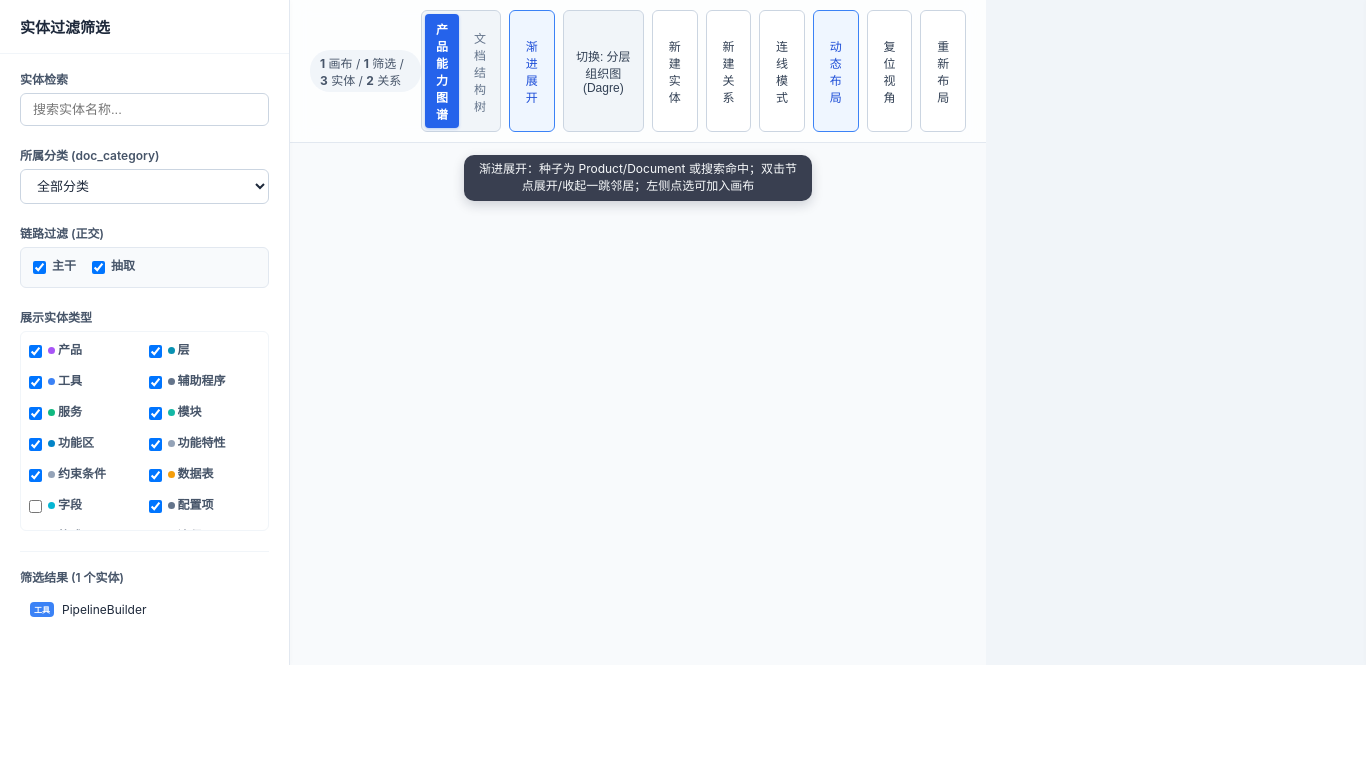
KnowledgeGraphView › toggles dynamic and static physics layout modes
# 切换到 Force 模式以测试物理引擎动静态状态
Click the button with test id "toggle-layout-mode" at (603,71), box [563,10,644,132]
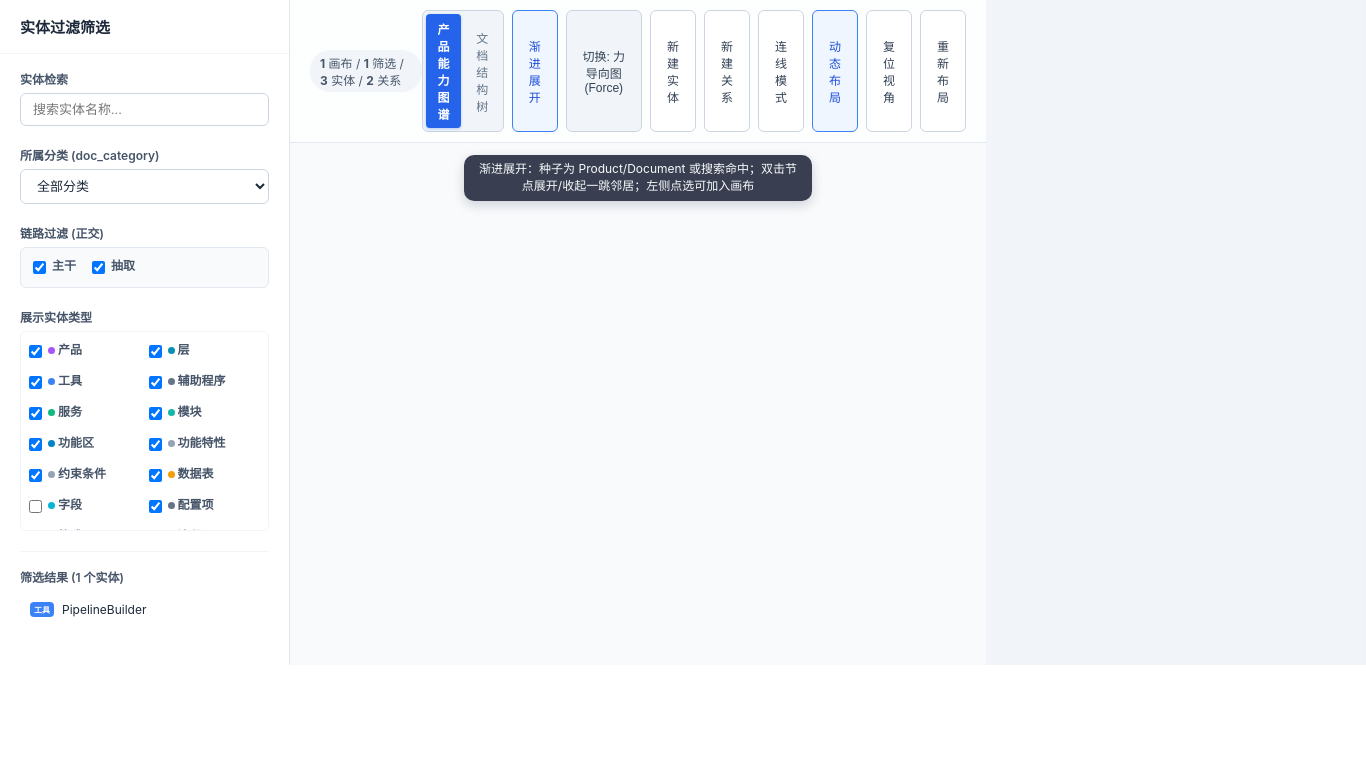
Click the button with test id "toggle-physics-mode" at (835,71), box [812,10,858,132]
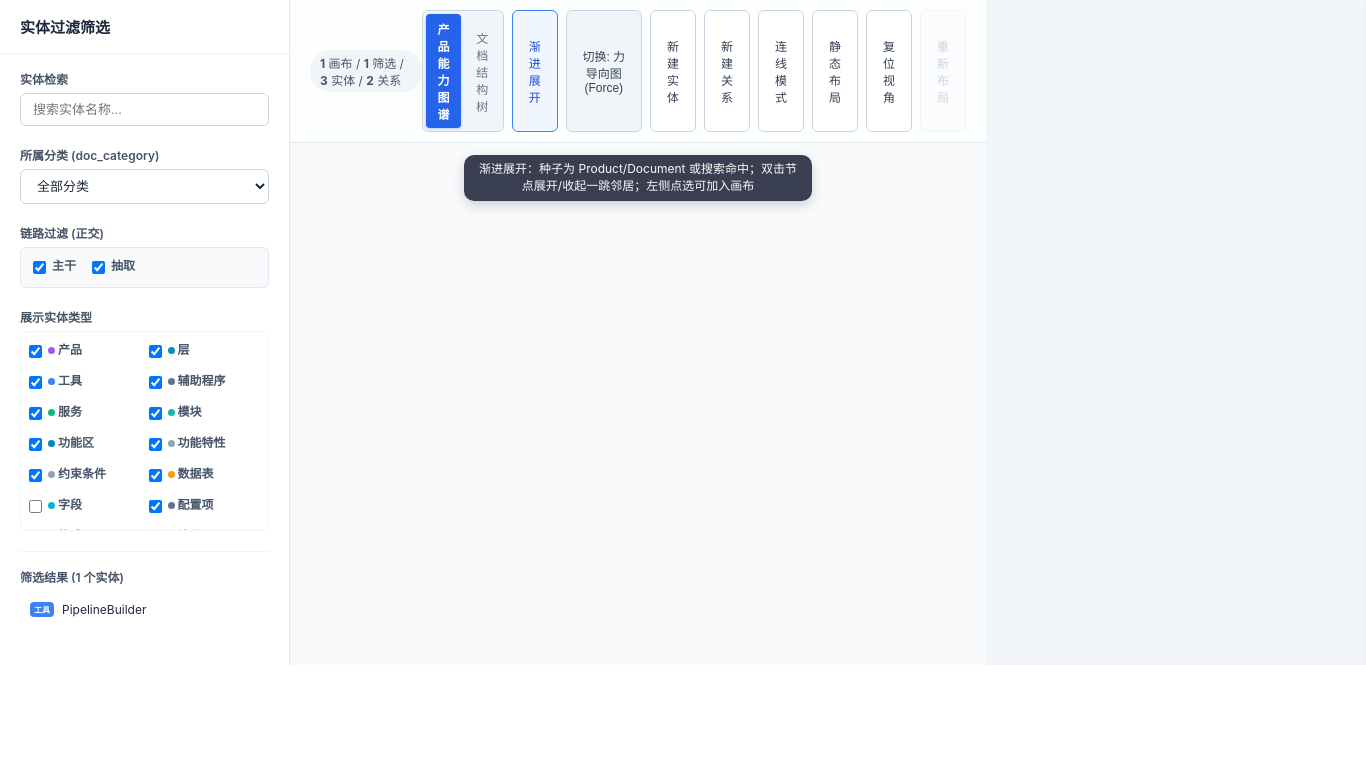
Now the button with test id "toggle-physics-mode" reads "静态布局"
Now the button with test id "restart-layout" is disabled, box [920,10,966,132]
Click the button with test id "toggle-physics-mode" at (835,71), box [812,10,858,132]
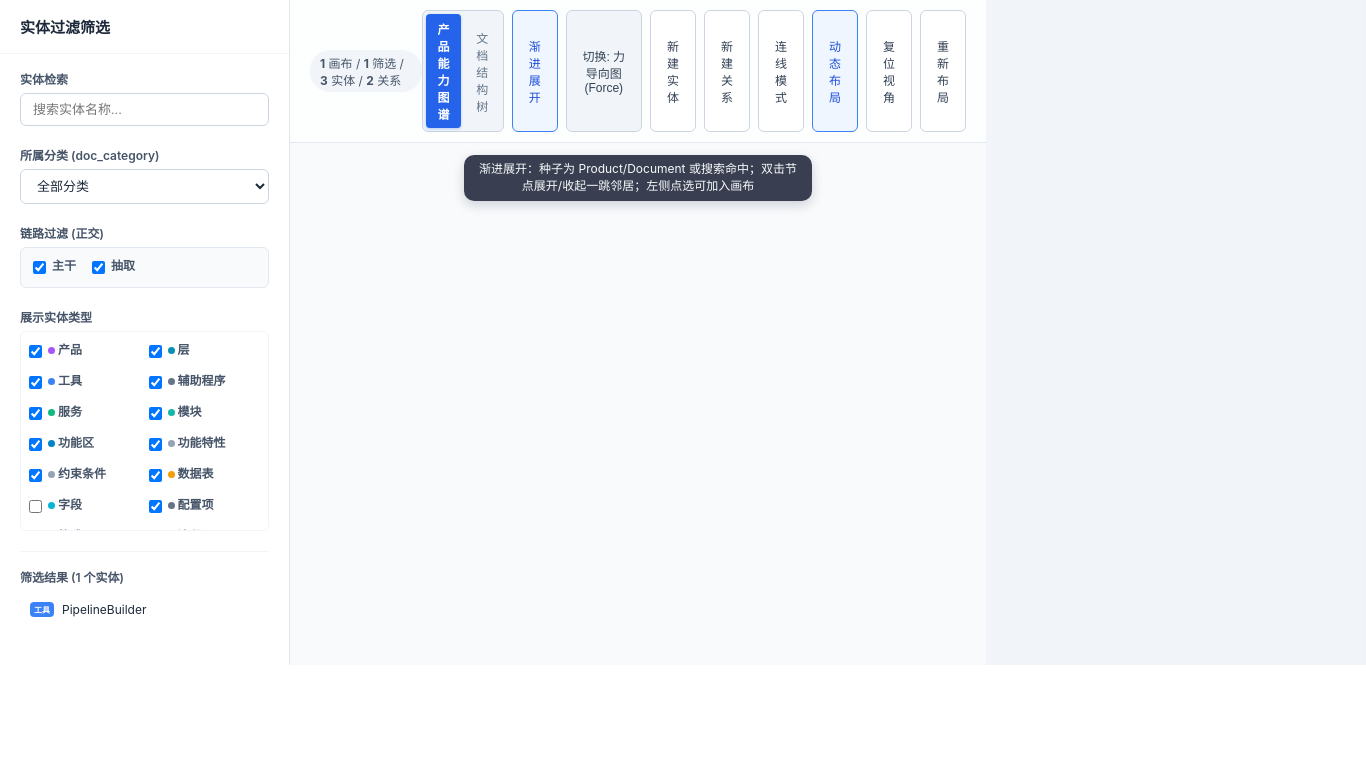
Now the button with test id "toggle-physics-mode" reads "动态布局", box [812,10,858,132]
